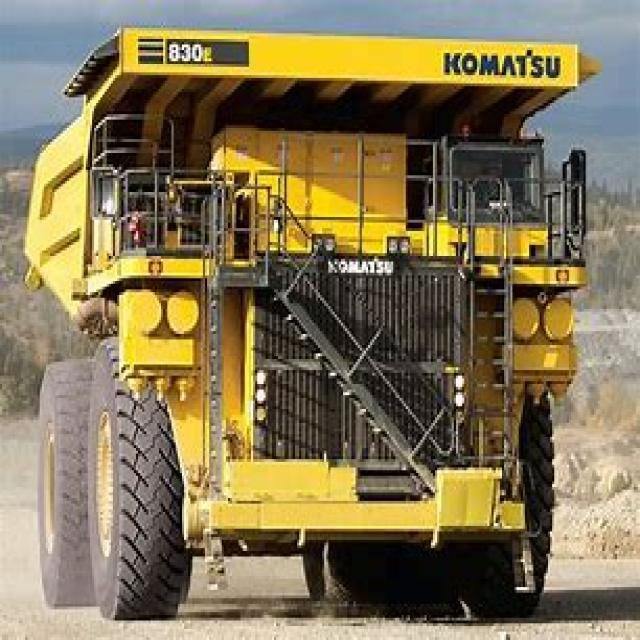dump_truck: (14, 16, 586, 618)
